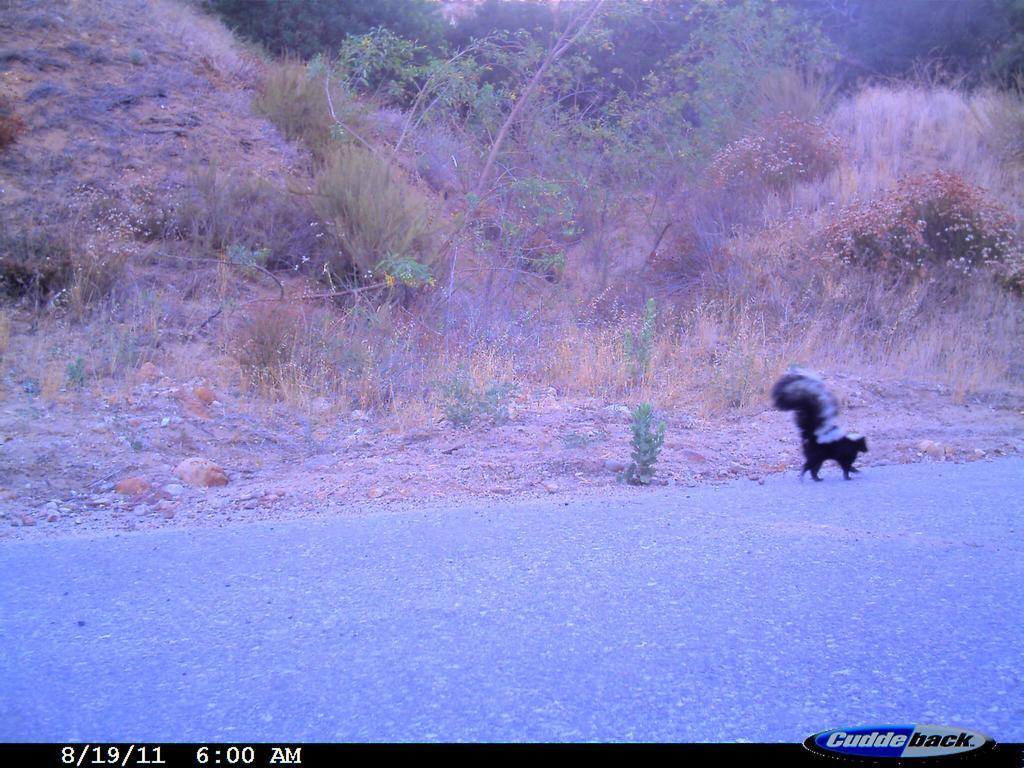skunk: (766, 370, 873, 486)
